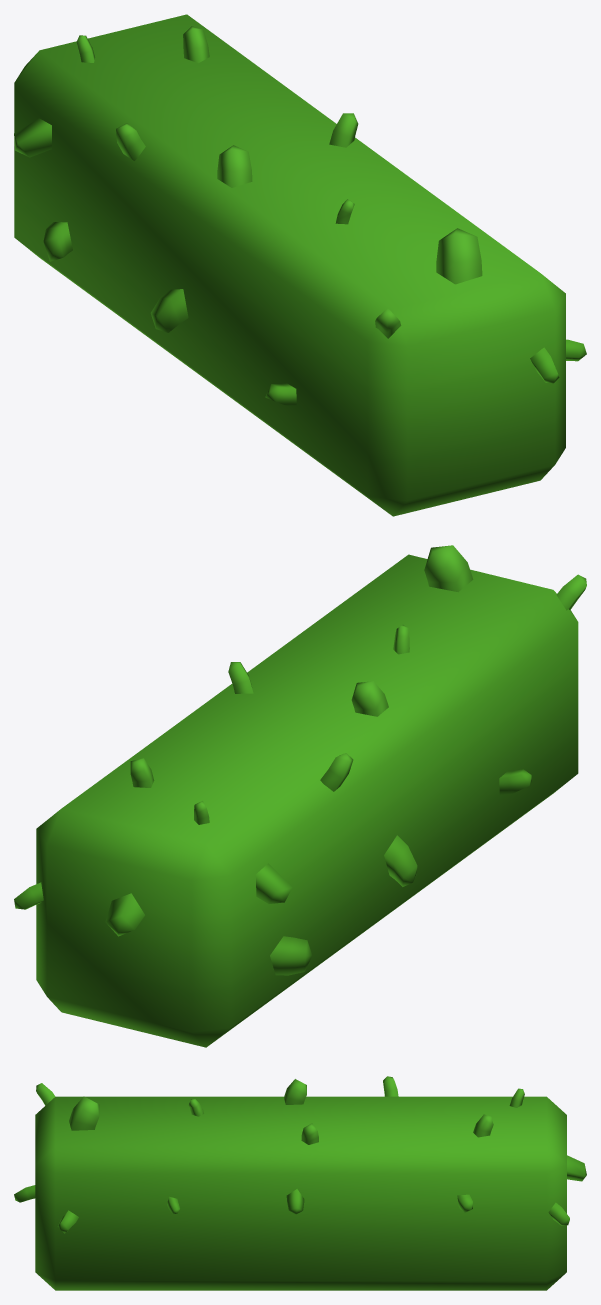
Rendered from Bush_1_C_1.fbx.
3 views of the same model, one above another, from view 1: azimuth 30°, elevation 25°; view 2: azimuth 150°, elevation 25°; view 3: azimuth 270°, elevation 25° (orthographic). The views are drawn at different scales.
Parts seen in each view (by area): view 1: Bush_1_C_1; view 2: Bush_1_C_1; view 3: Bush_1_C_1.
Boxes of the visible parts, <box> form: Bush_1_C_1: <box>14,14,586,516</box>; Bush_1_C_1: <box>14,545,586,1047</box>; Bush_1_C_1: <box>14,1076,586,1290</box>.
Size of the model in its own units: 79.36 by 73.97 by 223.
